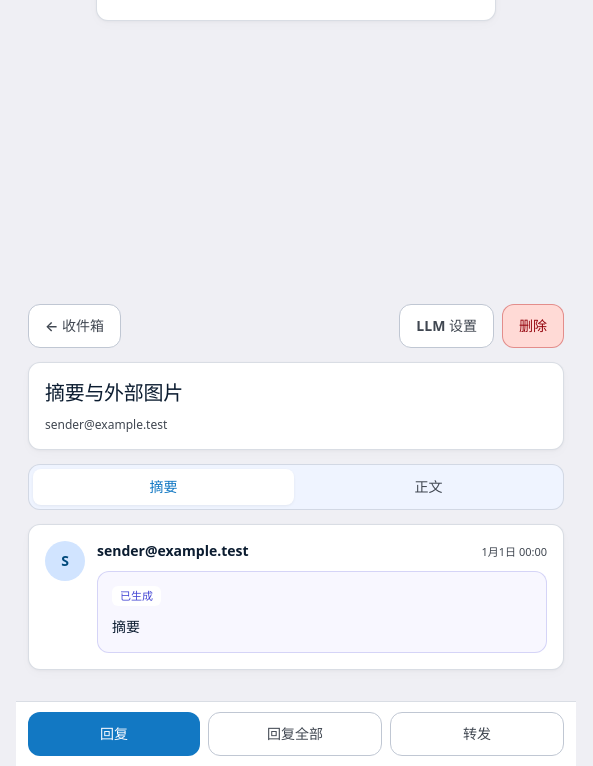
Scenario: Mini App accessibility and destructive action safeguards › keeps the external image action in the body view
(page scrolled)
Expected: the button "显示外部图片" is not shown
Step 1. Click the tab "正文" → {"x": 428, "y": 486}, box x1=298 y1=468 x2=559 y2=504
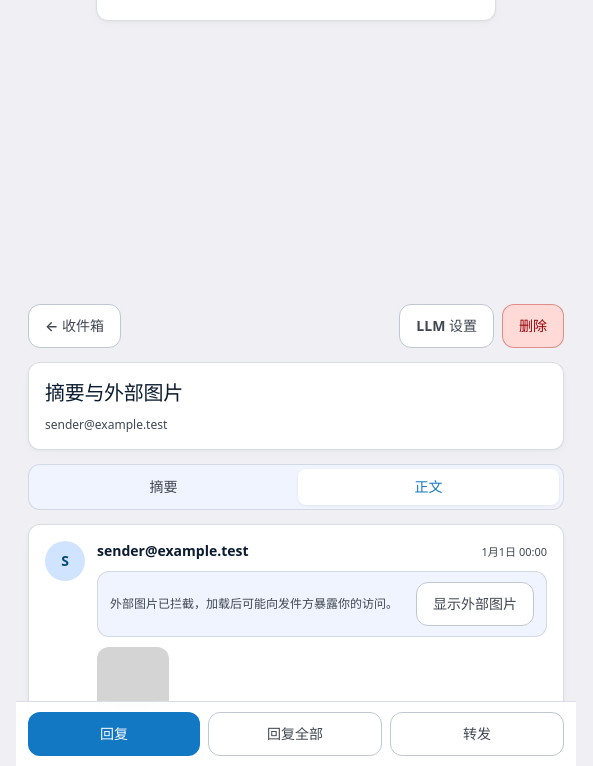
Expected: the button "显示外部图片" is shown, x1=416 y1=582 x2=534 y2=626
